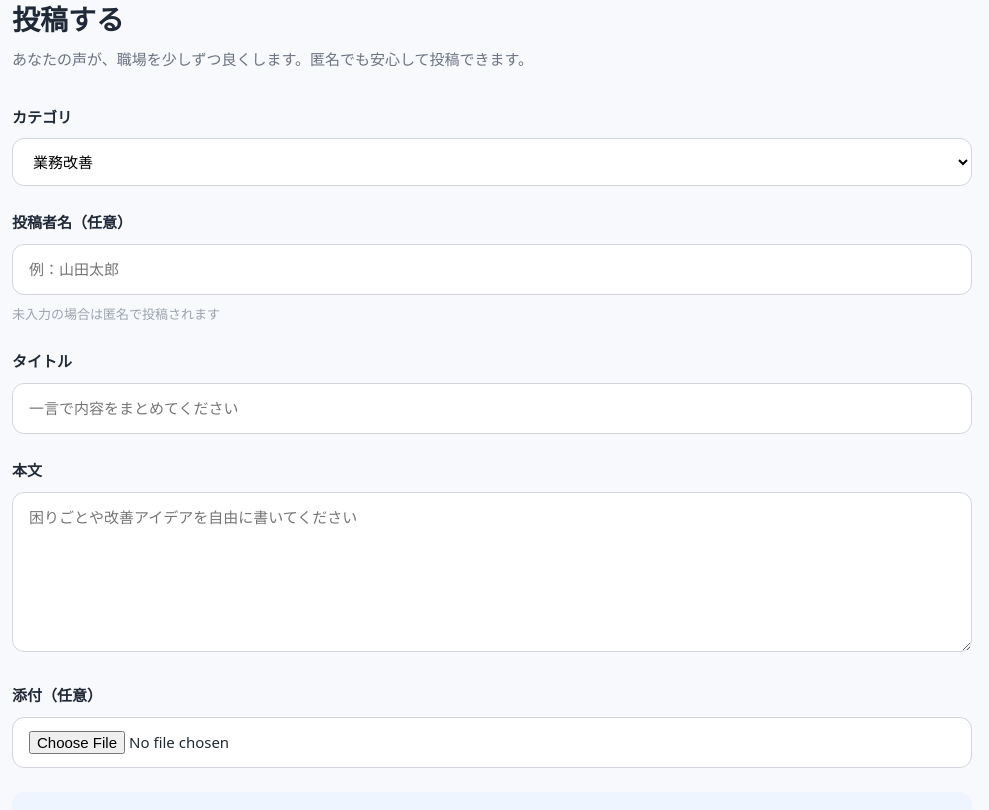
Test: PostFormPage › 送信すると一覧画面に遷移する
Step 1. Type "新しい投稿" into the field with test id "input-title" → (492, 409), box [12,383,972,434]
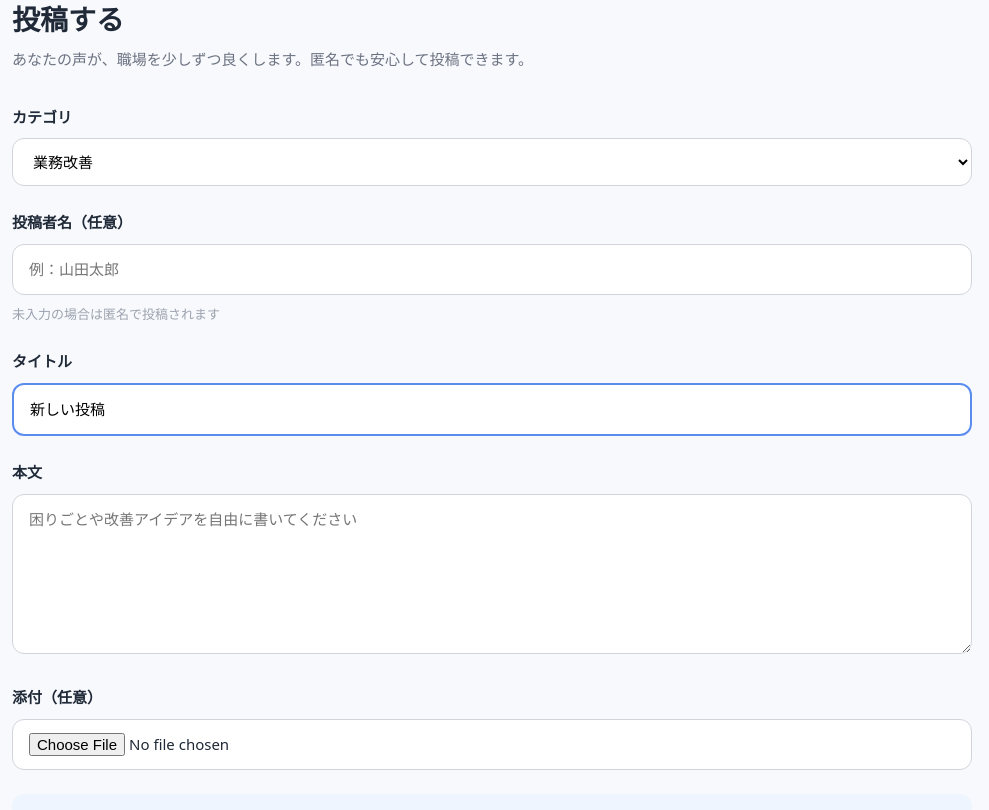
Step 2. Type "本文テスト" into the text box with test id "input-body" → (492, 574), box [12,494,972,654]
(page scrolled)
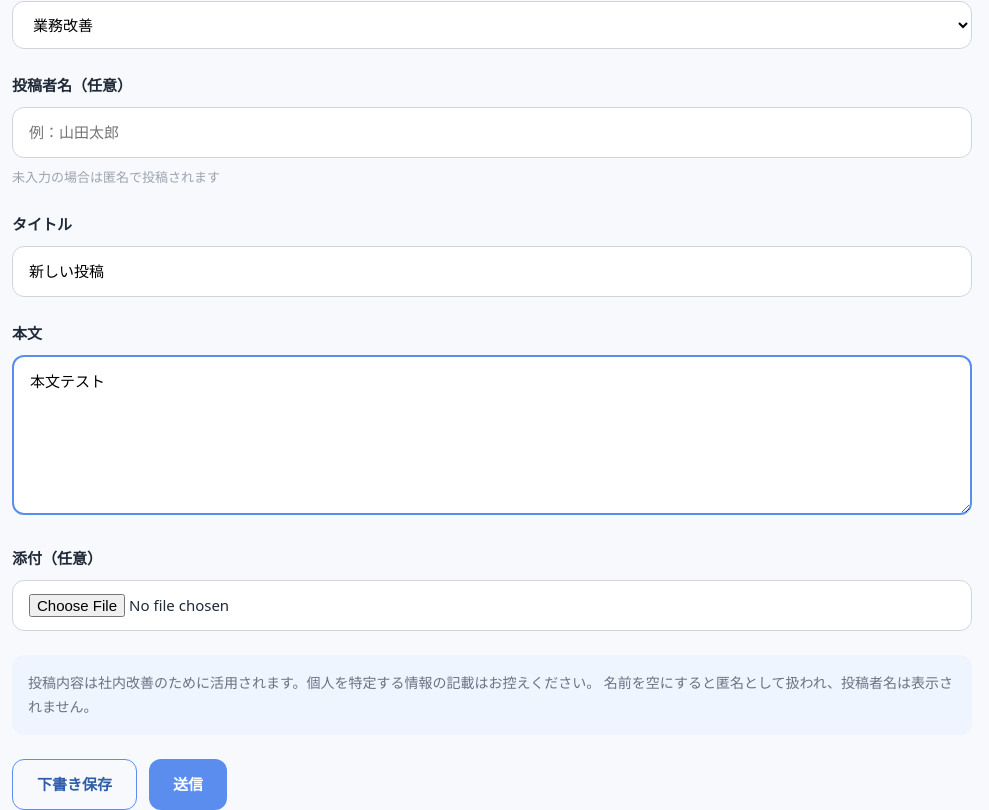
Step 3. Click the button with test id "btn-submit" → (188, 785), box [149,759,227,809]
(page scrolled)
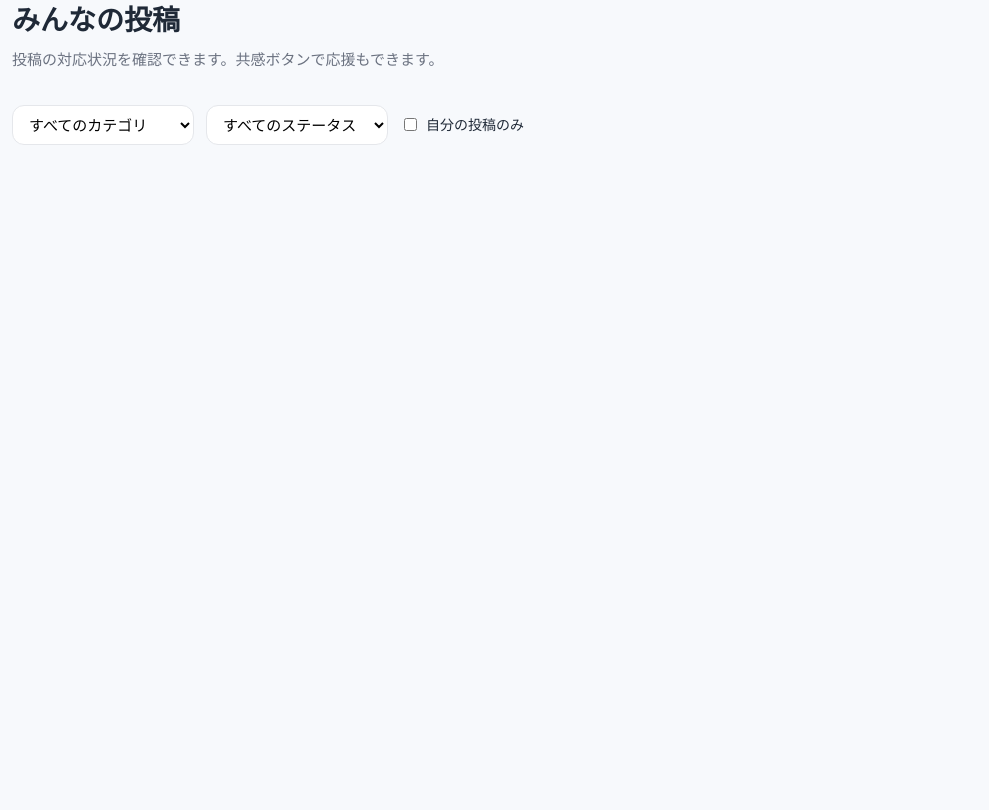
Now the element with test id "list-detail-page" is shown, box [12,0,524,145]
